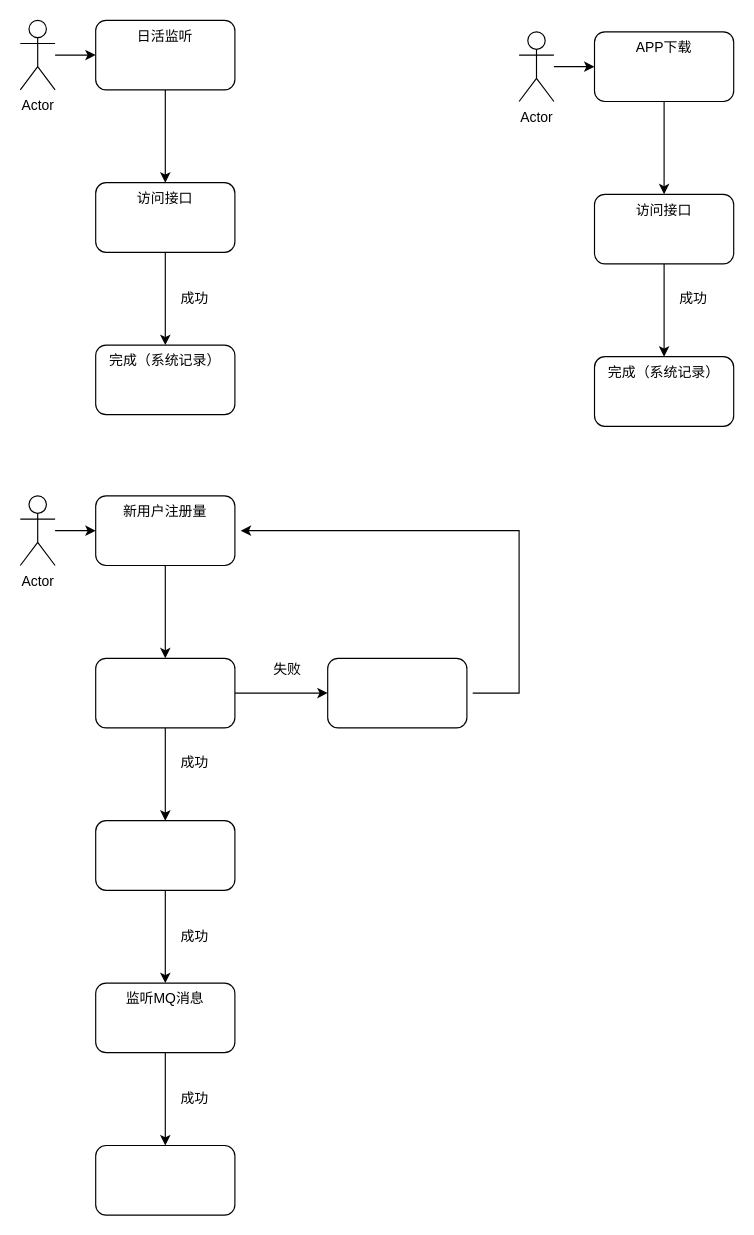
The diagram is 754 pixels wide and 1235 high, and some of its shapes have lost their labels. Each missing label, with the box of its shape:
发送MQ消息: (95, 820, 235, 890)
回滚: (327, 657, 467, 728)
完成添加记录: (95, 1144, 235, 1215)
用户访问注册接口: (95, 657, 235, 728)
